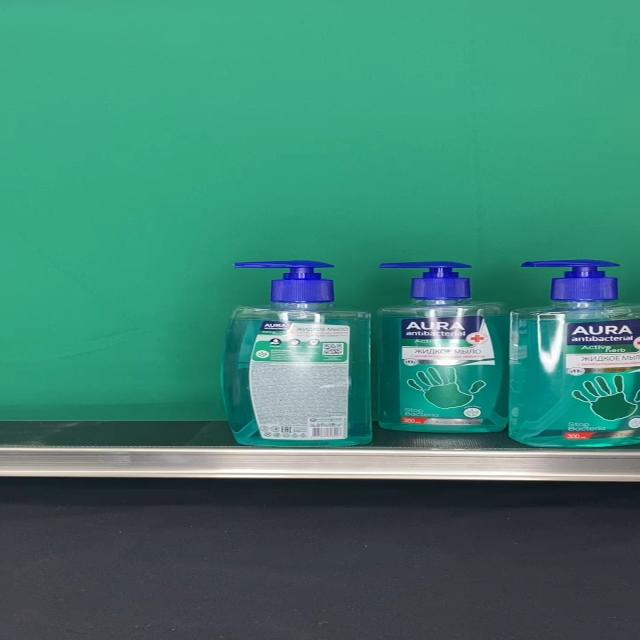Bottle: (221, 260, 372, 447), (511, 259, 640, 447), (377, 261, 510, 435)
Cap: (230, 260, 334, 302), (520, 259, 620, 301), (378, 262, 472, 302)
